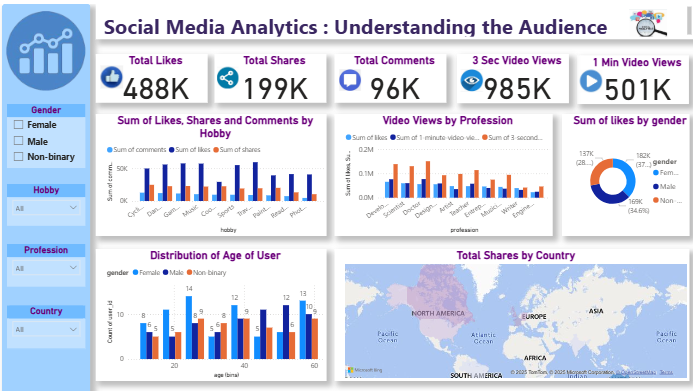

The dashboard page shown, as its layout file describes it:
{"tool":"powerbi","page":{"name":"Page 1","canvas":[1280,720],"ordinal":0},"visuals":[{"type":"shape","box":[8.6,0,162.6,720.2],"z":0},{"type":"textbox","box":[181,0,1099.3,64.8],"z":1000},{"type":"image","box":[1139.7,4.9,113.7,59.9],"z":2000},{"type":"image","box":[8.6,0,162.6,156.5],"z":3000},{"type":"card","title":"Total Likes","fields":{"Values":["Sum(social_media_analysis.likes)"]},"box":[181,92.9,205.4,89.3],"z":4000},{"type":"image","box":[181,108.8,59.9,52.6],"z":5000},{"type":"card","title":"Total Shares","fields":{"Values":["Sum(social_media_analysis.shares)"]},"box":[399.9,92.9,205.4,89.3],"z":6000},{"type":"image","box":[399.9,106.4,48.9,59.9],"z":7000},{"type":"card","title":"Total Comments","fields":{"Values":["Sum(social_media_analysis.comments)"]},"box":[620,92.9,205.4,89.3],"z":8000},{"type":"image","box":[620,113.7,57.5,50.1],"z":9000},{"type":"card","title":"1 Min Video Views","fields":{"Values":["Sum(social_media_analysis.1-minute-video-views)"]},"box":[1066.3,94.2,205.4,89.3],"z":10000},{"type":"card","title":"3 Sec Video Views","fields":{"Values":["Sum(social_media_analysis.3-second-video-views)"]},"box":[845,92.9,205.4,89.3],"z":11000},{"type":"image","box":[845,113.7,53.8,51.4],"z":12000},{"type":"image","box":[1066.3,113.7,51.4,52.6],"z":13000},{"type":"clusteredColumnChart","title":"Sum of Likes, Shares and Comments by Hobby","fields":{"Category":["social_media_analysis.hobby"],"Y":["Sum(social_media_analysis.comments)","Sum(social_media_analysis.likes)","Sum(social_media_analysis.shares)"]},"box":[181,200.5,424.3,225],"z":14000},{"type":"clusteredColumnChart","title":"Video Views by Profession","fields":{"Category":["social_media_analysis.profession"],"Y":["Sum(social_media_analysis.likes)","Sum(social_media_analysis.1-minute-video-views)","Sum(social_media_analysis.3-second-video-views)"]},"box":[620,201.8,401.1,223.8],"z":15000},{"type":"donutChart","fields":{"Category":["social_media_analysis.gender"],"Y":["Sum(social_media_analysis.likes)"]},"box":[1037,201.8,234.8,223.8],"z":16000},{"type":"clusteredColumnChart","title":"Distribution of Age of User","fields":{"Y":["CountNonNull(social_media_analysis.user_id)"],"Category":["social_media_analysis.age (bins)"],"Series":["social_media_analysis.gender"]},"box":[181,459.8,424.3,232.3],"z":17000},{"type":"slicer","title":"Gender","fields":{"Values":["social_media_analysis.gender"]},"box":[18.3,183.4,144.3,117.4],"z":18000},{"type":"slicer","title":"Hobby","fields":{"Values":["social_media_analysis.hobby"]},"box":[18.3,335.1,144.3,69.7],"z":19000},{"type":"slicer","title":"Profession","fields":{"Values":["social_media_analysis.profession"]},"box":[18.3,440.2,144.3,69.7],"z":20000},{"type":"filledMap","title":"Total Shares by Country","fields":{"Category":["social_media_analysis.country"]},"box":[620,459.8,651.8,232.3],"z":21000},{"type":"slicer","title":"Country","fields":{"Values":["social_media_analysis.country"]},"box":[18.3,541.7,144.3,69.7],"z":22000}]}

Visuals, with their boxes in screenshot pixels (x1, y1, x2, y2), scaled from the page's 1280x720 canvas onto the 696x391 screenshot:
shape: left=5, top=0, right=93, bottom=390
textbox: left=98, top=0, right=695, bottom=35
image: left=620, top=3, right=682, bottom=35
image: left=5, top=0, right=93, bottom=85
"Total Likes" card: left=98, top=50, right=210, bottom=99
image: left=98, top=59, right=131, bottom=88
"Total Shares" card: left=217, top=50, right=329, bottom=99
image: left=217, top=58, right=244, bottom=90
"Total Comments" card: left=337, top=50, right=449, bottom=99
image: left=337, top=62, right=368, bottom=89
"1 Min Video Views" card: left=580, top=51, right=691, bottom=100
"3 Sec Video Views" card: left=459, top=50, right=571, bottom=99
image: left=459, top=62, right=489, bottom=90
image: left=580, top=62, right=608, bottom=90
"Sum of Likes, Shares and Comments by Hobby" clusteredColumnChart: left=98, top=109, right=329, bottom=231
"Video Views by Profession" clusteredColumnChart: left=337, top=110, right=555, bottom=231
donutChart - social_media_analysis.gender x Sum(social_media_analysis.likes): left=564, top=110, right=692, bottom=231
"Distribution of Age of User" clusteredColumnChart: left=98, top=250, right=329, bottom=376
"Gender" slicer: left=10, top=100, right=88, bottom=163
"Hobby" slicer: left=10, top=182, right=88, bottom=220
"Profession" slicer: left=10, top=239, right=88, bottom=277
"Total Shares by Country" filledMap: left=337, top=250, right=692, bottom=376
"Country" slicer: left=10, top=294, right=88, bottom=332
